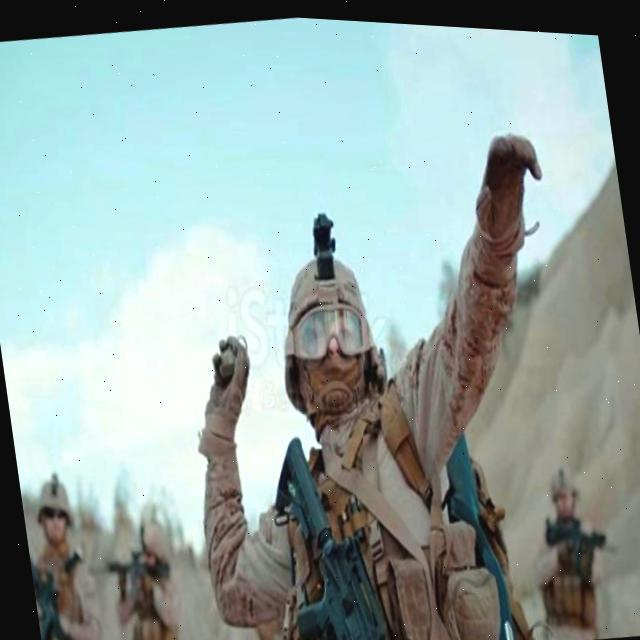grenade: (208, 322, 256, 383)
